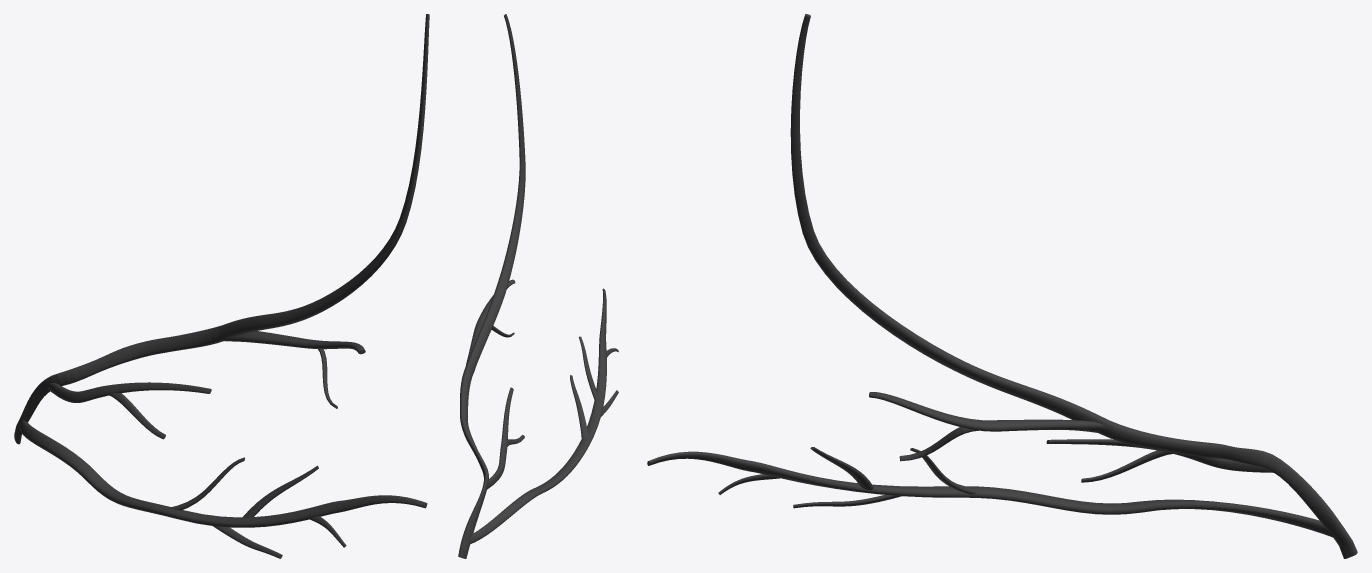
File: N_7_facial_caudal_auricular.glb
The picture shows the model from 3 angles, left to right: view 1: azimuth 30°, elevation 25°; view 2: azimuth 150°, elevation 25°; view 3: azimuth 270°, elevation 25°; orthographic projection. The views are drawn at different scales.
Parts seen in each view (by area): view 1: N_7_facial_caudal_auricular; view 2: N_7_facial_caudal_auricular; view 3: N_7_facial_caudal_auricular.
Part boxes in pixels (box(x1,y1,x2,y2)): N_7_facial_caudal_auricular: box(14, 14, 429, 558); N_7_facial_caudal_auricular: box(458, 14, 618, 558); N_7_facial_caudal_auricular: box(647, 14, 1357, 558).
Bounding box in the file's own units: 0.00824 × 0.0217 × 0.0217.
Materials: 1 (1 with a texture image).
